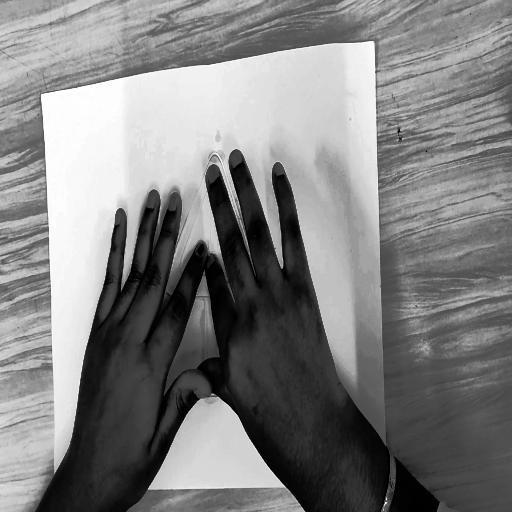bottom_left: (49, 480, 61, 496)
bottom_right: (379, 463, 390, 481)
signboard: (162, 138, 289, 424)
top_left: (37, 88, 47, 105)
top_right: (368, 34, 380, 54)
